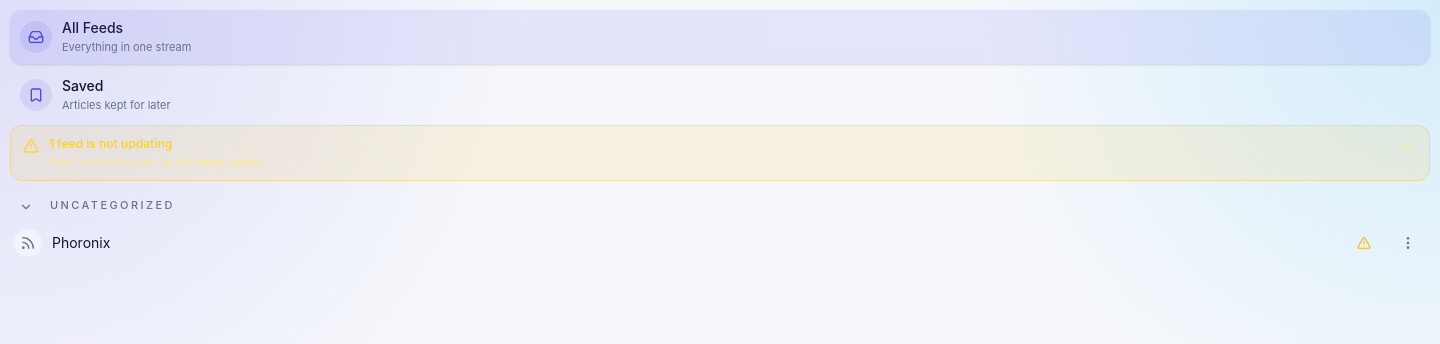
SidebarTree feed sync warnings › lets the user dismiss the aggregate warning without hiding row health
Click the button named "Dismiss feed health summary" at (1407, 146), box [1393,132,1421,160]
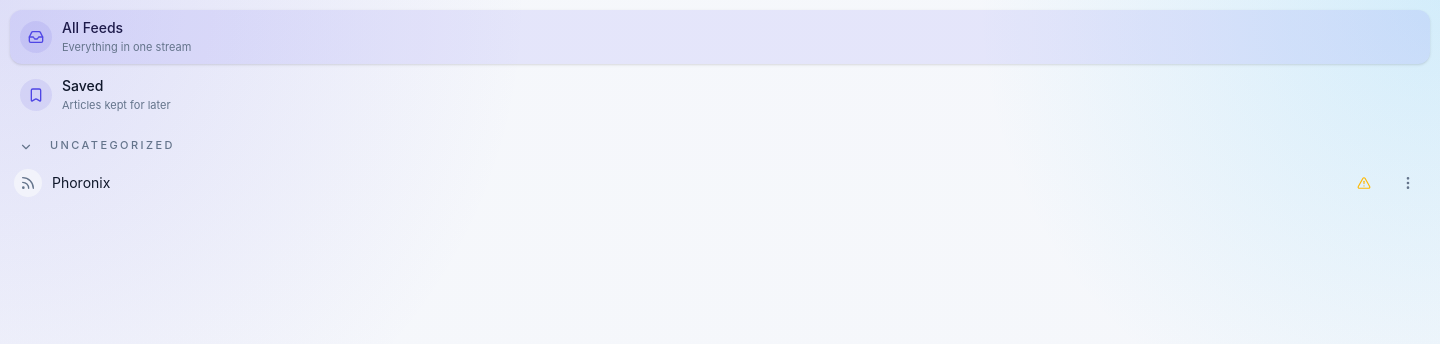
Expected: the button named "Show health details for Phoronix" is shown, [1342,161,1386,205]
Expected: the text "1 feed is not updating" is gone
